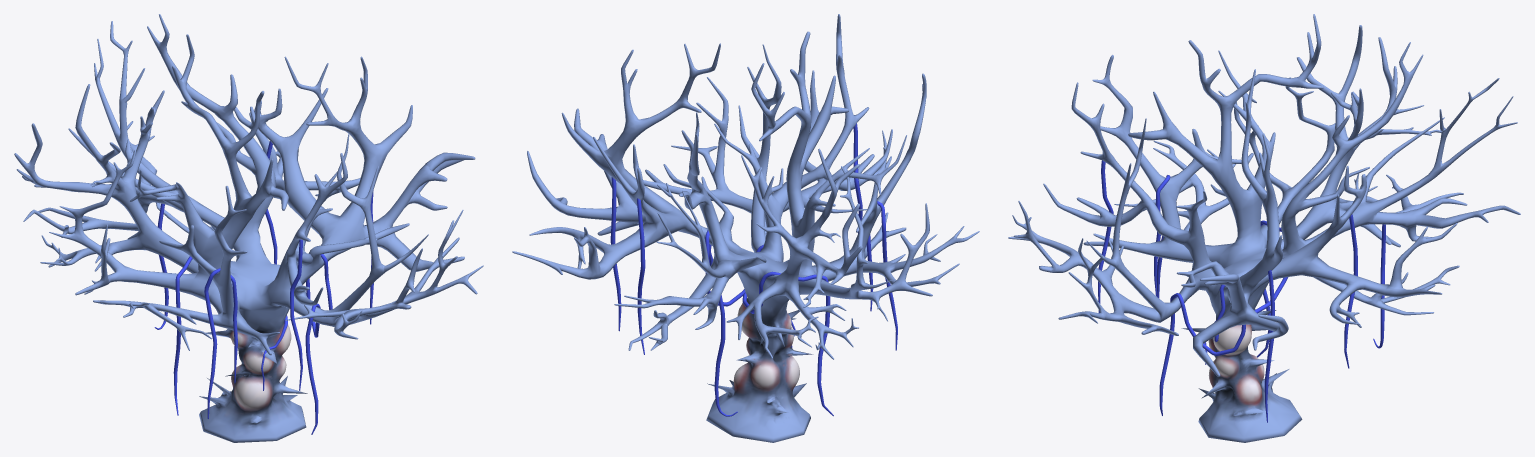
The model's file is trees_2_w_vines.fbx.
The picture shows the model from 3 angles, left to right: view 1: azimuth 30°, elevation 25°; view 2: azimuth 150°, elevation 25°; view 3: azimuth 270°, elevation 25°; orthographic projection. The views are drawn at different scales.
Visible parts, largest first — view 1: tree 2.001, type 2; view 2: tree 2.001, type 2; view 3: tree 2.001, type 2.
Part boxes in pixels (x1,y1,x2,y2): tree 2.001: (14, 14, 483, 442); type 2: (154, 141, 373, 434); tree 2.001: (512, 14, 979, 442); type 2: (610, 123, 897, 416); tree 2.001: (1008, 14, 1520, 442); type 2: (1098, 160, 1385, 422).
Bounding box in the file's own units: 943 × 867 × 1027.
